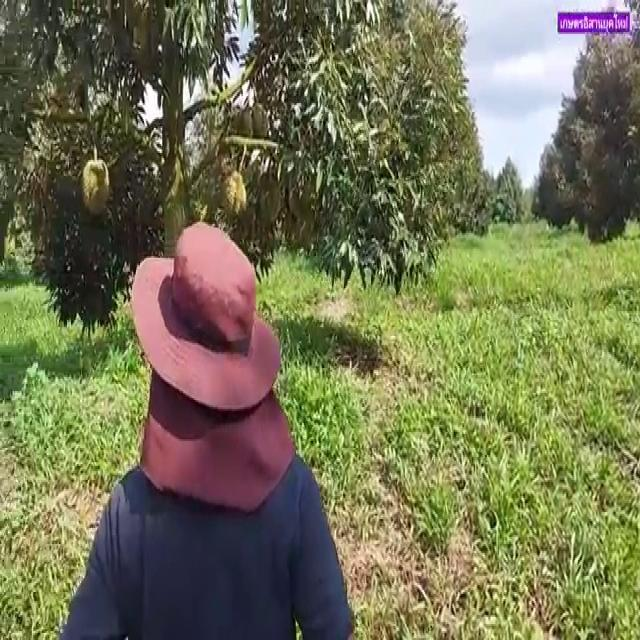durian: (78, 151, 113, 219), (220, 168, 252, 220)
